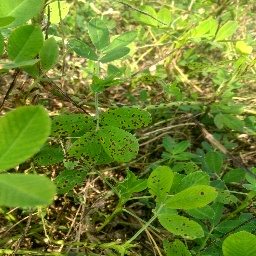GroundNut_Leaf: (1, 105, 51, 171), (1, 173, 56, 210), (95, 127, 139, 164), (6, 24, 42, 64), (159, 213, 205, 238), (174, 185, 218, 209), (96, 109, 153, 127), (1, 1, 47, 23), (148, 166, 173, 201), (53, 113, 93, 134), (57, 170, 89, 196), (223, 230, 255, 254), (111, 30, 137, 57), (136, 9, 171, 28), (88, 18, 108, 50), (43, 37, 58, 69), (216, 115, 243, 130), (207, 152, 223, 171)
